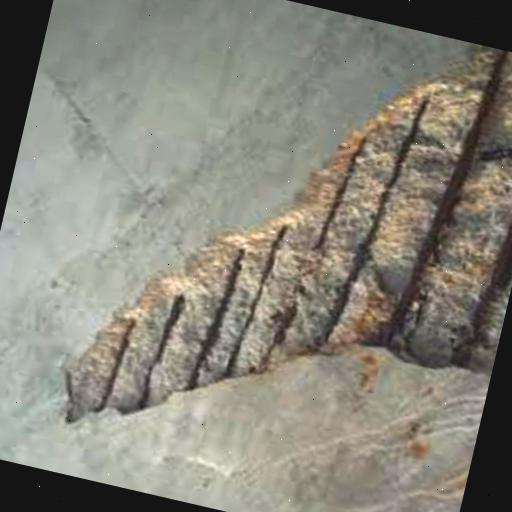spalling: (59, 45, 512, 421)
